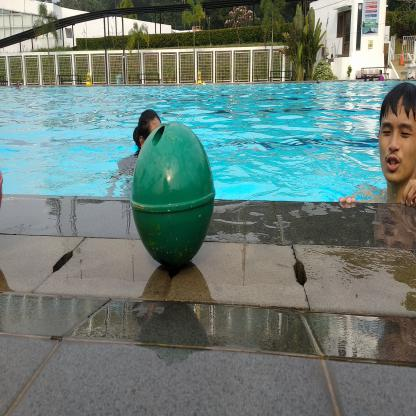green_buoy: (123, 120, 220, 282)
